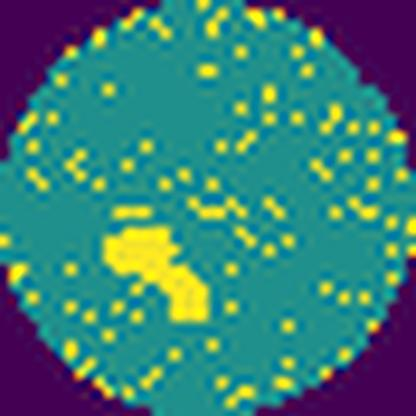Loc: (102, 223, 210, 321)
